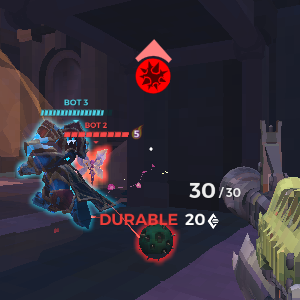model: (79, 149, 102, 188)
